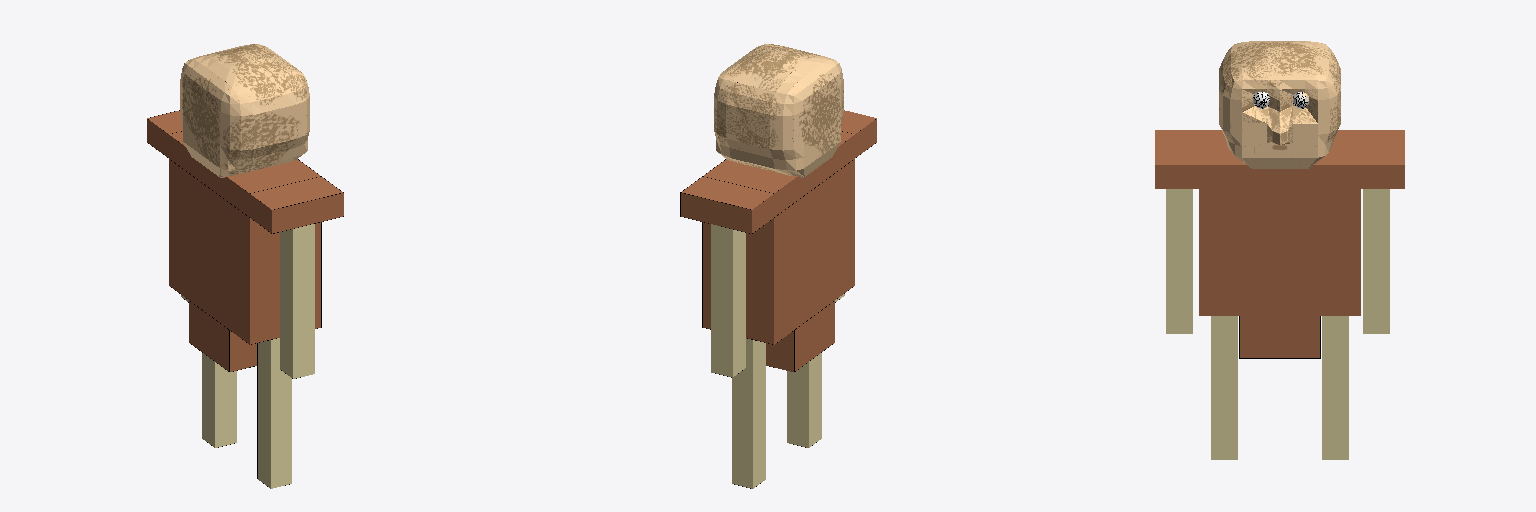
3 views of the same model, side by side, from view 1: azimuth 30°, elevation 25°; view 2: azimuth 150°, elevation 25°; view 3: azimuth 270°, elevation 25° (orthographic).
Parts seen in each view (by area): view 1: body_body_Cube.002, head2_head_Cube.001, left_arm_left_arm_Cube.004, left_leg_left_leg_Cube.005, right_leg_right_leg_Cube.006; view 2: body_body_Cube.002, head2_head_Cube.001, right_arm_right_arm_Cube, right_leg_right_leg_Cube.006, left_leg_left_leg_Cube.005; view 3: body_body_Cube.002, head2_head_Cube.001, left_arm_left_arm_Cube.004, right_arm_right_arm_Cube, left_leg_left_leg_Cube.005, right_leg_right_leg_Cube.006.
Part boxes in pixels (left/top/right/bottom): body_body_Cube.002: left=147, top=110, right=343, bottom=371; head2_head_Cube.001: left=180, top=44, right=309, bottom=177; left_arm_left_arm_Cube.004: left=280, top=224, right=314, bottom=378; left_leg_left_leg_Cube.005: left=257, top=338, right=291, bottom=488; right_leg_right_leg_Cube.006: left=202, top=353, right=236, bottom=447; body_body_Cube.002: left=680, top=110, right=876, bottom=371; head2_head_Cube.001: left=714, top=44, right=843, bottom=177; right_arm_right_arm_Cube: left=711, top=224, right=745, bottom=377; right_leg_right_leg_Cube.006: left=732, top=338, right=765, bottom=488; left_leg_left_leg_Cube.005: left=787, top=353, right=821, bottom=447; body_body_Cube.002: left=1155, top=130, right=1404, bottom=358; head2_head_Cube.001: left=1219, top=41, right=1340, bottom=168; left_arm_left_arm_Cube.004: left=1166, top=189, right=1192, bottom=333; right_arm_right_arm_Cube: left=1363, top=189, right=1389, bottom=333; left_leg_left_leg_Cube.005: left=1211, top=316, right=1237, bottom=459; right_leg_right_leg_Cube.006: left=1322, top=316, right=1348, bottom=459.
Size of the model in its own units: 0.2844 by 1.01 by 0.5667.
Materials: 6 (3 with a texture image).